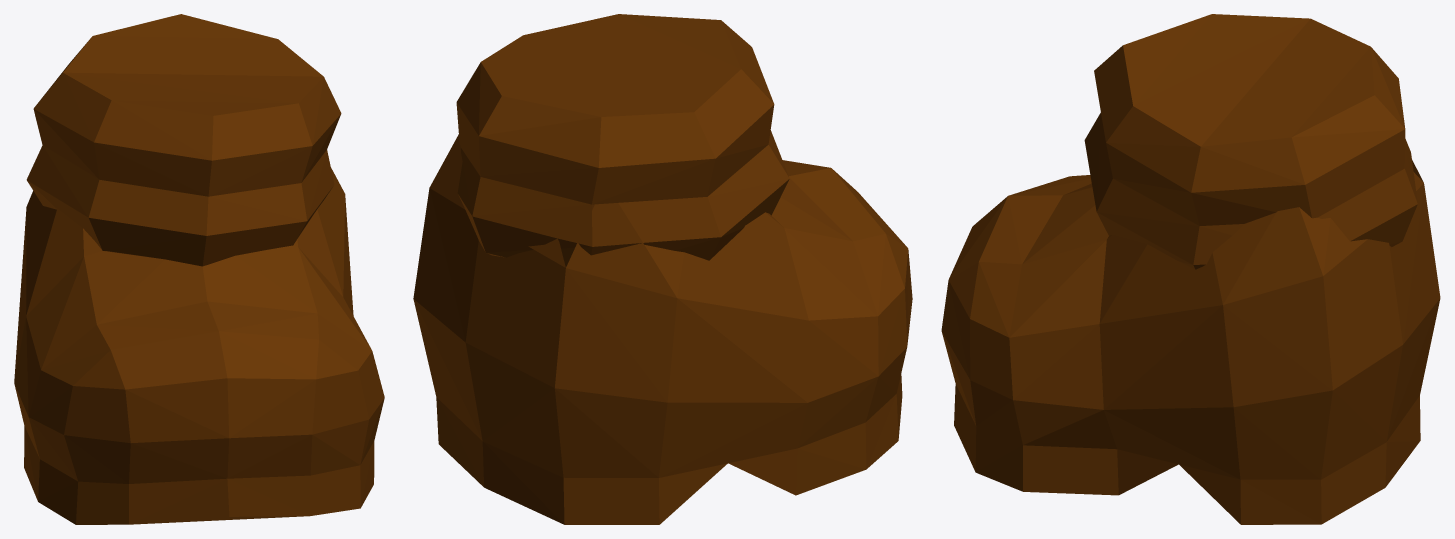
File: bootR.fbx
3 views of the same model, side by side, from view 1: azimuth 30°, elevation 25°; view 2: azimuth 150°, elevation 25°; view 3: azimuth 270°, elevation 25° (orthographic). The views are drawn at different scales.
Visible parts, largest first — view 1: Model; view 2: Model; view 3: Model.
Boxes of the visible parts, box(x1,y1,x2,y2) form: Model: box(14, 14, 384, 524); Model: box(413, 14, 912, 524); Model: box(941, 14, 1440, 524).
Bounding box in the file's own units: 0.00217 × 0.00216 × 0.00249.
